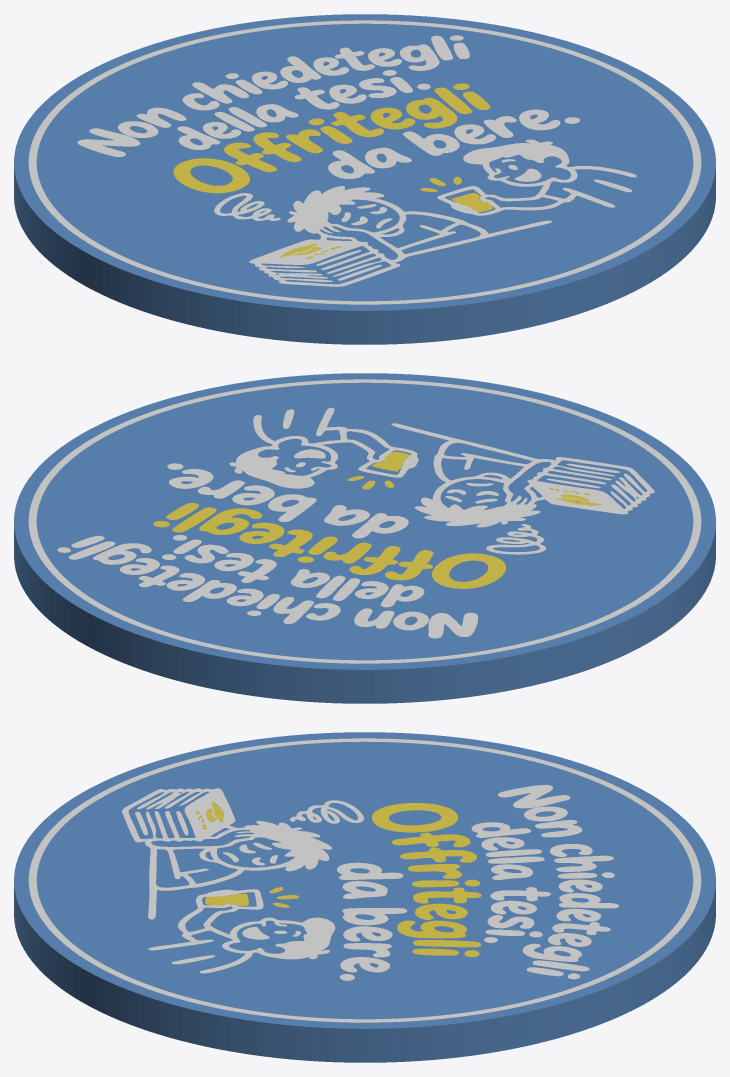
The model's file is sottobicchiere-non-chiedete-tesi.glb.
3 renders of one model, top to bottom at view 1: azimuth 30°, elevation 25°; view 2: azimuth 150°, elevation 25°; view 3: azimuth 270°, elevation 25°, orthographic.
Parts seen in each view (by area): view 1: coaster_base, coaster_ink, coaster_accent; view 2: coaster_base, coaster_ink, coaster_accent; view 3: coaster_base, coaster_ink, coaster_accent.
Boxes of the visible parts, x1,y1,x2,y2 form: coaster_base: [14, 14, 715, 344]; coaster_ink: [28, 20, 701, 304]; coaster_accent: [173, 83, 492, 258]; coaster_base: [14, 373, 715, 703]; coaster_ink: [28, 379, 701, 663]; coaster_accent: [153, 451, 602, 588]; coaster_base: [14, 732, 715, 1062]; coaster_ink: [28, 738, 701, 1022]; coaster_accent: [196, 801, 481, 957].
Bounding box in the file's own units: 0.075 × 0.004 × 0.075.
